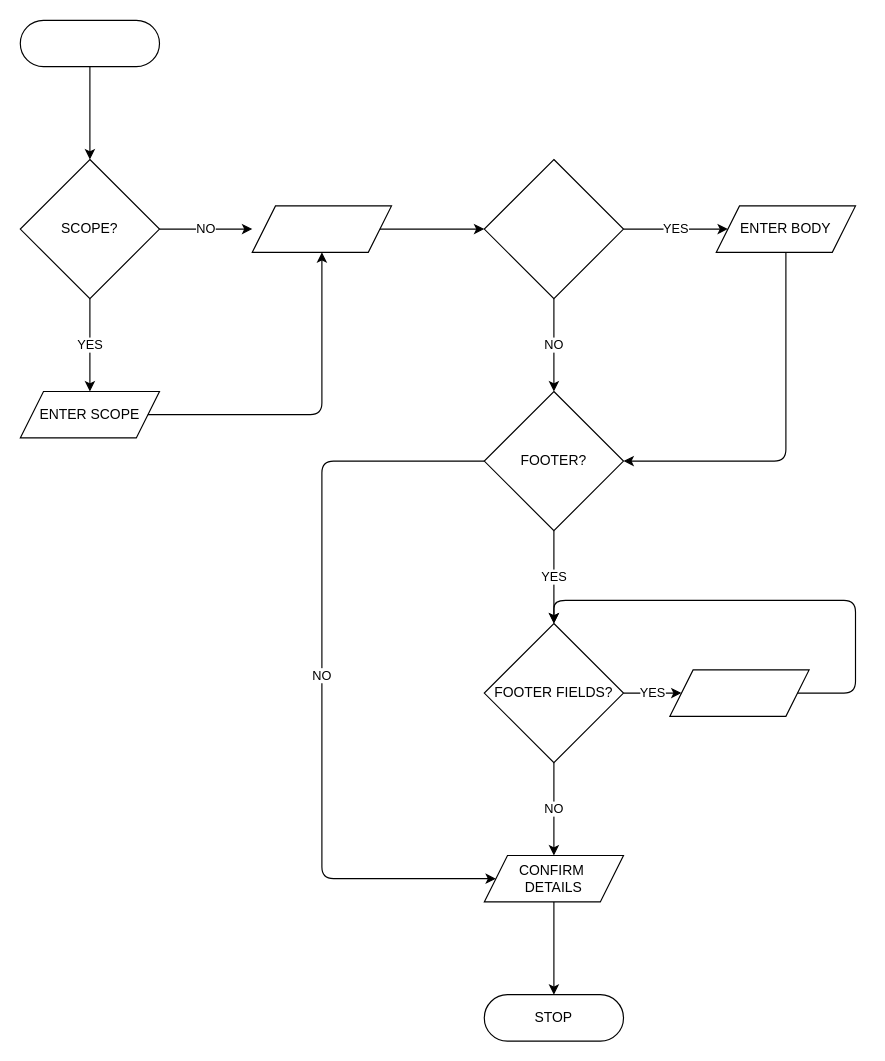
Image size: 885x1061. Some labels were removed from this diagram. The shapes that lost their labels are listed below. From the top down, each one's centre as x and y in pixels, then its label:
the point at 89,43: START
the point at 321,228: ENTER DESCRIPTION
the point at 553,228: BODY?
the point at 739,692: ENTER FOOTER FIELD
